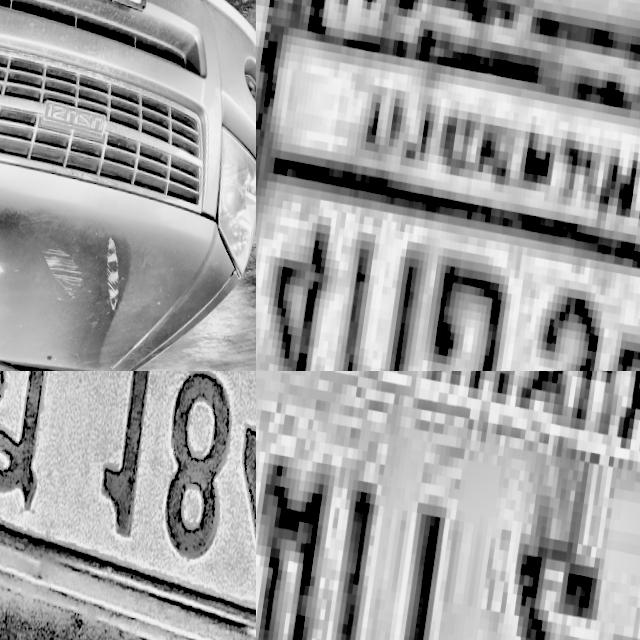license-plate: (256, 0, 640, 371), (256, 371, 640, 640), (0, 371, 256, 640)
